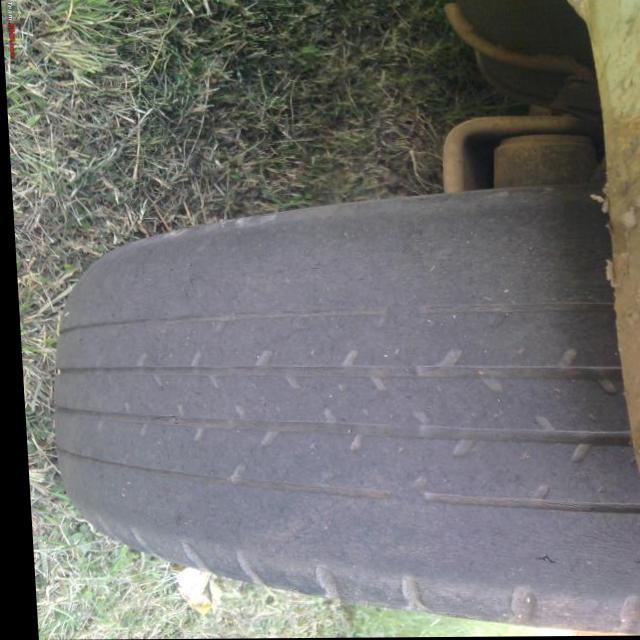Flat spots: (137, 233, 618, 325), (58, 450, 639, 505)
